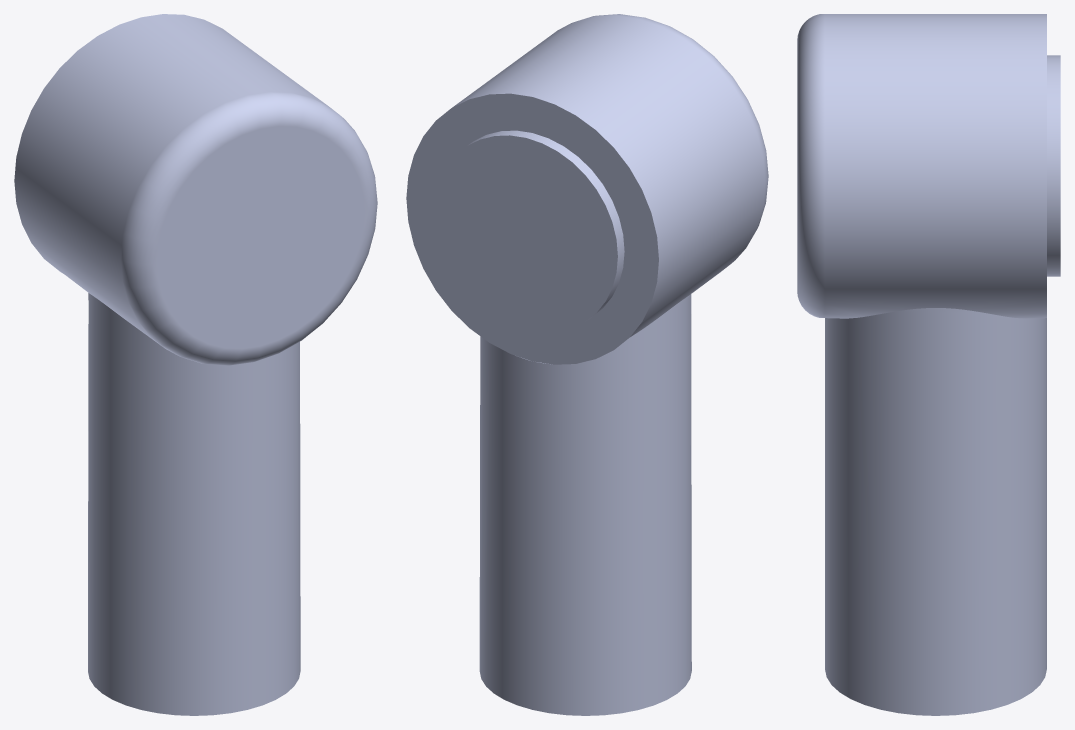
The picture shows the model from 3 angles, left to right: view 1: azimuth 30°, elevation 25°; view 2: azimuth 150°, elevation 25°; view 3: azimuth 270°, elevation 25°; orthographic projection. The views are drawn at different scales.
Parts seen in each view (by area): view 1: Link-2; view 2: Link-2; view 3: Link-2.
Part boxes in pixels (x1,y1,x2,y2): Link-2: [14, 14, 377, 715]; Link-2: [406, 14, 768, 715]; Link-2: [797, 14, 1060, 715].
Bounding box in the file's own units: 0.11 × 0.255 × 0.095.
